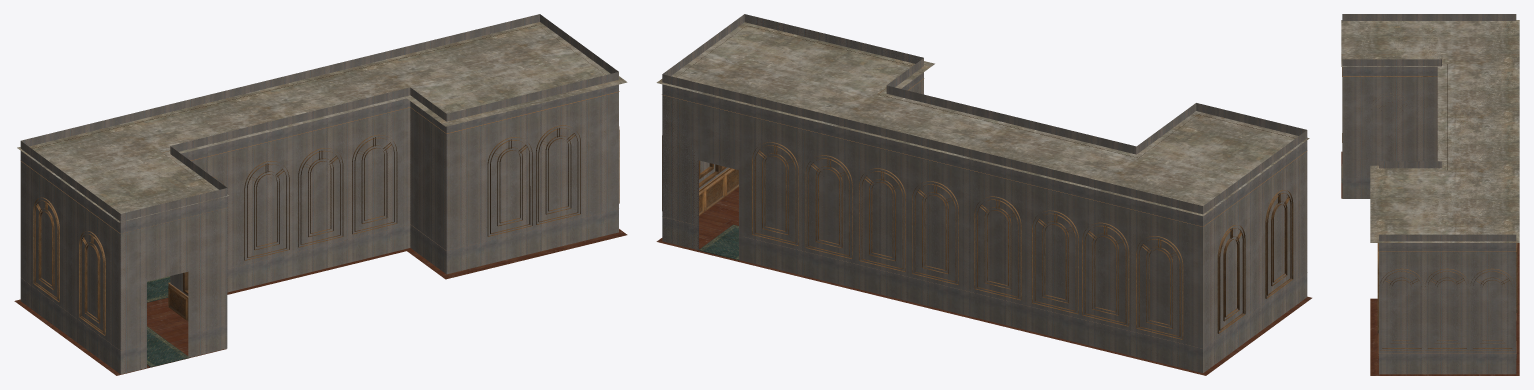
3 views of the same model, side by side, from view 1: azimuth 30°, elevation 25°; view 2: azimuth 150°, elevation 25°; view 3: azimuth 270°, elevation 25° (orthographic). The views are drawn at different scales.
Parts seen in each view (by area): view 1: LOD_1_Group_0_Sub_3__st2_police2fRightWall07, LOD_1_Group_0_Sub_4__st2_police1fLeftCeiling02, LOD_1_Group_0_Sub_5__st2_police2fRightFrame03, LOD_1_Group_0_Sub_1__st2_police2fRightFloor01, LOD_1_Group_0_Sub_2__st2_police2fRightFloor03; view 2: LOD_1_Group_0_Sub_3__st2_police2fRightWall07, LOD_1_Group_0_Sub_4__st2_police1fLeftCeiling02, LOD_1_Group_0_Sub_5__st2_police2fRightFrame03, LOD_1_Group_0_Sub_1__st2_police2fRightFloor01, LOD_1_Group_0_Sub_2__st2_police2fRightFloor03; view 3: LOD_1_Group_0_Sub_3__st2_police2fRightWall07, LOD_1_Group_0_Sub_4__st2_police1fLeftCeiling02, LOD_1_Group_0_Sub_5__st2_police2fRightFrame03, LOD_1_Group_0_Sub_1__st2_police2fRightFloor01, LOD_1_Group_0_Sub_2__st2_police2fRightFloor03.
Boxes of the visible parts, x1,y1,x2,y2 form: LOD_1_Group_0_Sub_3__st2_police2fRightWall07: (20, 14, 618, 374); LOD_1_Group_0_Sub_4__st2_police1fLeftCeiling02: (17, 22, 627, 222); LOD_1_Group_0_Sub_5__st2_police2fRightFrame03: (20, 25, 619, 335); LOD_1_Group_0_Sub_1__st2_police2fRightFloor01: (14, 229, 627, 375); LOD_1_Group_0_Sub_2__st2_police2fRightFloor03: (24, 209, 617, 367); LOD_1_Group_0_Sub_3__st2_police2fRightWall07: (662, 14, 1307, 373); LOD_1_Group_0_Sub_4__st2_police1fLeftCeiling02: (656, 22, 1309, 216); LOD_1_Group_0_Sub_5__st2_police2fRightFrame03: (662, 25, 1307, 339); LOD_1_Group_0_Sub_1__st2_police2fRightFloor01: (656, 187, 1311, 375); LOD_1_Group_0_Sub_2__st2_police2fRightFloor03: (663, 168, 1303, 348); LOD_1_Group_0_Sub_3__st2_police2fRightWall07: (1342, 14, 1516, 374); LOD_1_Group_0_Sub_4__st2_police1fLeftCeiling02: (1341, 20, 1519, 242); LOD_1_Group_0_Sub_5__st2_police2fRightFrame03: (1342, 64, 1517, 350); LOD_1_Group_0_Sub_1__st2_police2fRightFloor01: (1341, 151, 1519, 375); LOD_1_Group_0_Sub_2__st2_police2fRightFloor03: (1341, 133, 1516, 358).
Bounding box in the file's own units: 13.76 × 4.01 × 4.62.
